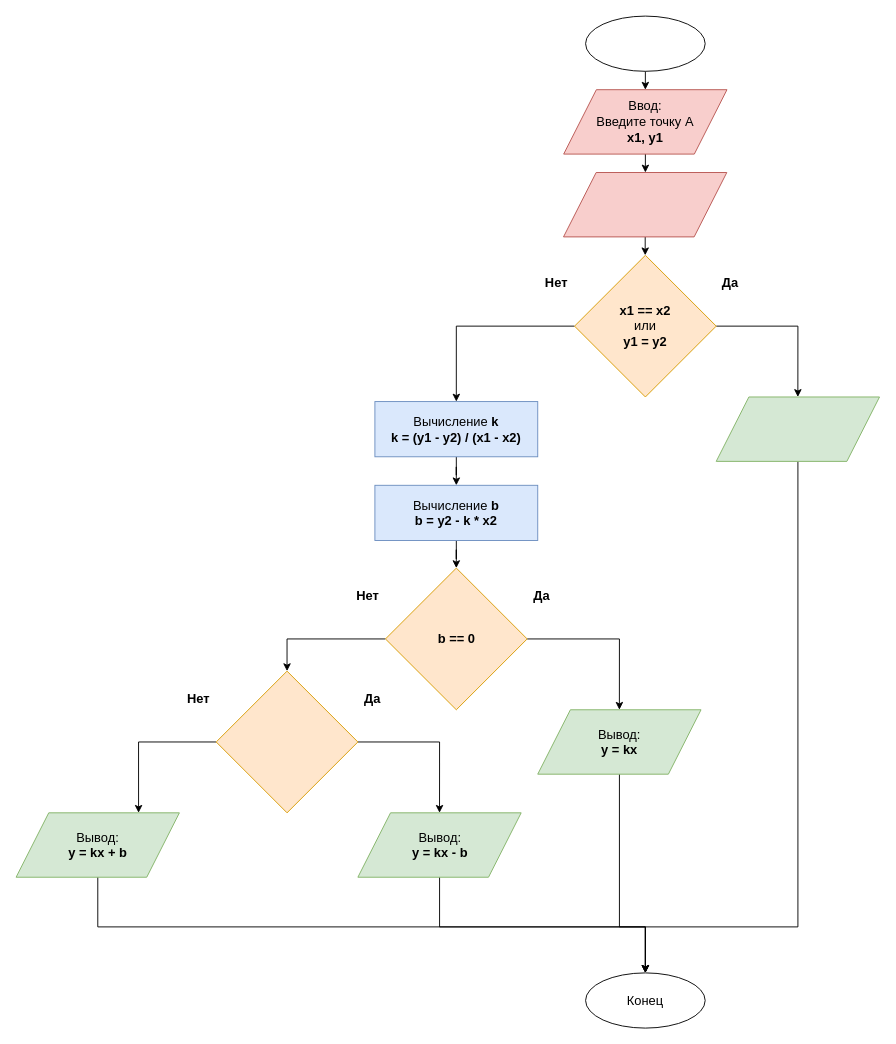
Some shapes in this 896 by 1044 pixel diagram are drawn without their labels. Each missing label, with the box of its shape:
b < 0: (215, 670, 358, 813)
Ввод: Введите точку B x2, y2: (563, 172, 727, 237)
Вывод: Точки не должны совпадать: (715, 396, 880, 461)
Начало: (585, 15, 705, 71)
